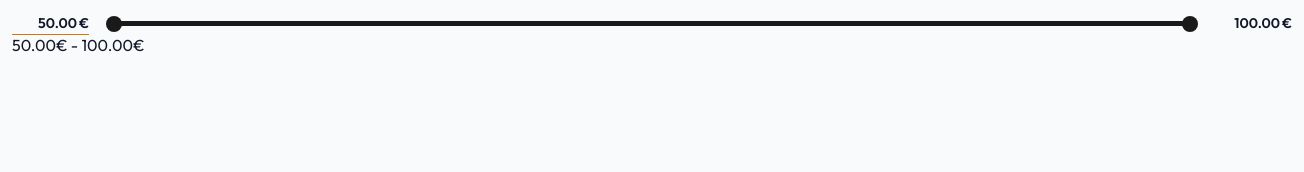
Scenario: Range Component › sanitizes invalid input characters
This screenshot has width=1304, height=172.
Replace the text in the number field with test id "min-input" with "abc". click: point(44, 23)
box: [12,12,77,34]
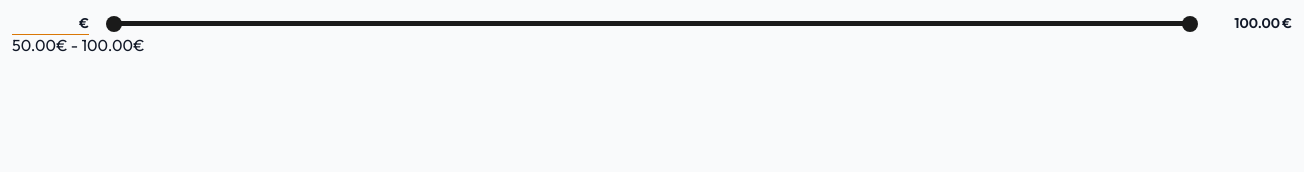
Leave the number field with test id "min-input", box [12,12,77,34]
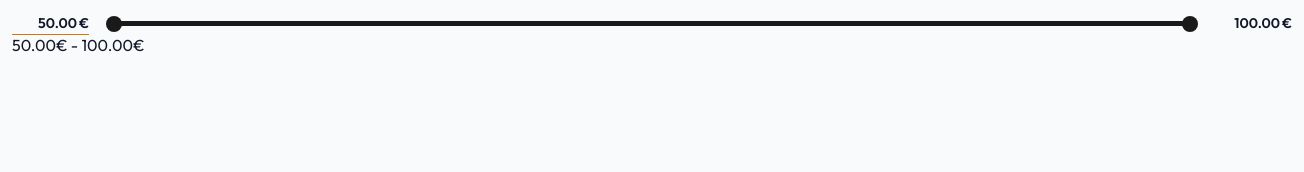
Expected: the number field with test id "min-input" holds "50.00", [12,12,77,34]
